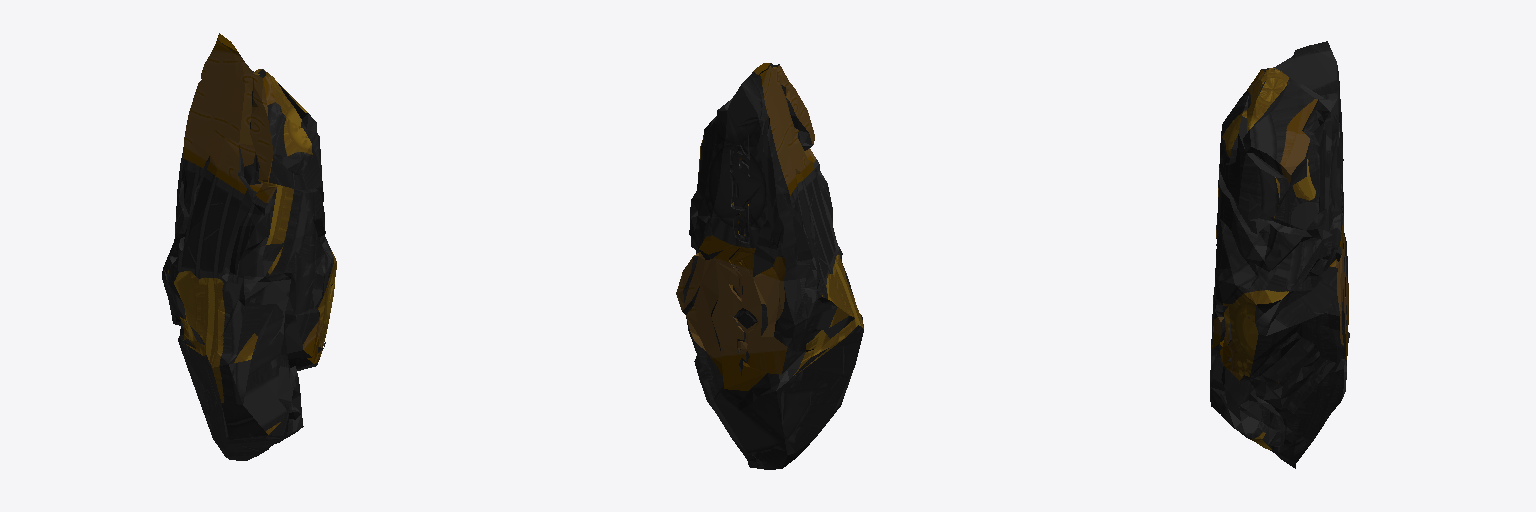
3 renders of one model, left to right at view 1: azimuth 30°, elevation 25°; view 2: azimuth 150°, elevation 25°; view 3: azimuth 270°, elevation 25°, orthographic.
Parts seen in each view (by area): view 1: runestone_low__0; view 2: runestone_low__0; view 3: runestone_low__0.
Boxes of the visible parts, <box> form: runestone_low__0: <box>162,33,336,460</box>; runestone_low__0: <box>676,63,863,469</box>; runestone_low__0: <box>1210,41,1349,468</box>.
Bounding box in the file's own units: 313 × 874 × 267.
1 materials, 1 textured.